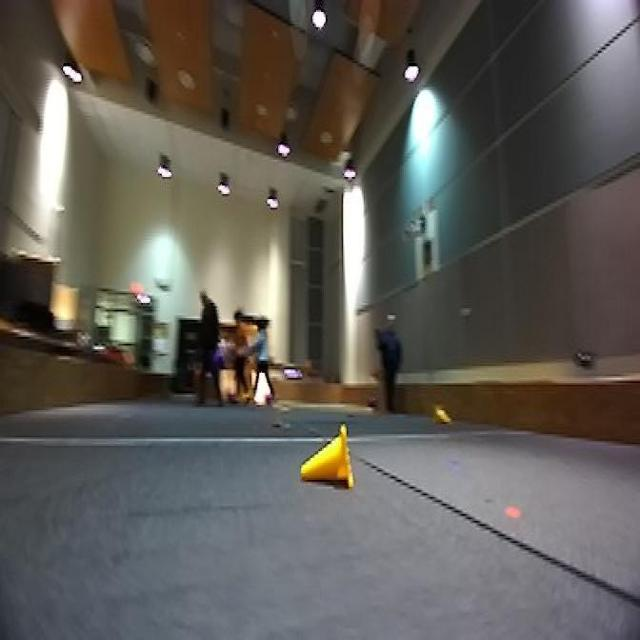frc_cone: (300, 427, 358, 497), (430, 400, 455, 427)
frc_cube: (206, 346, 227, 376)
